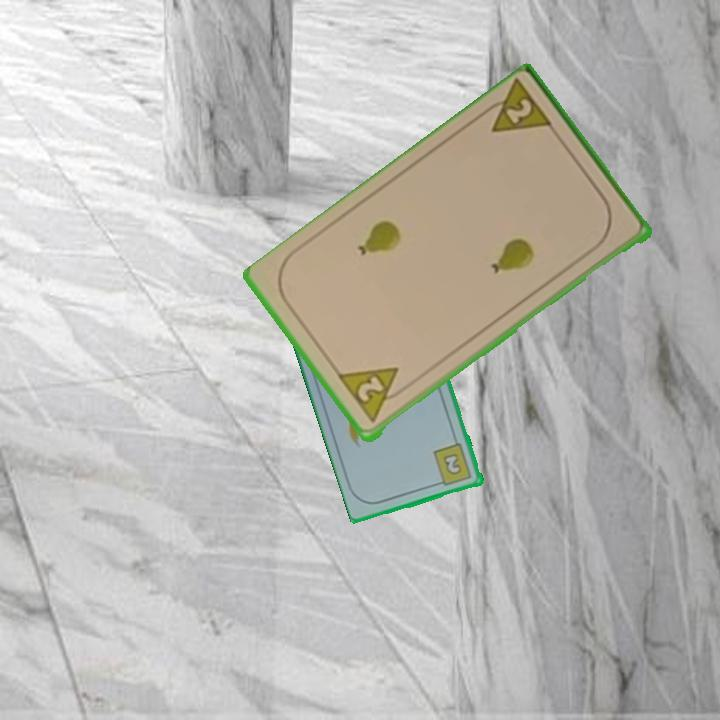2b: (430, 440, 475, 489)
2p: (335, 363, 412, 427), (476, 78, 557, 137)
